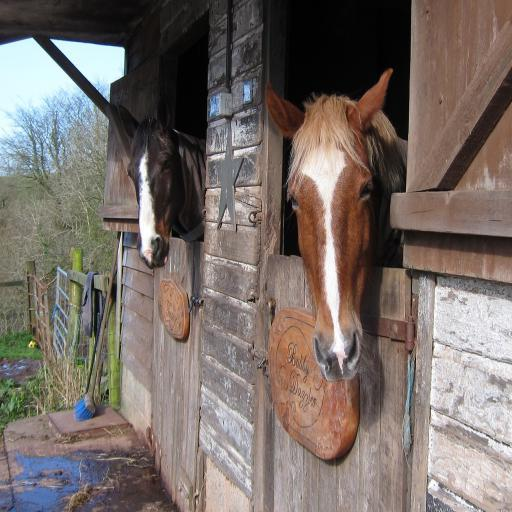horse: (264, 80, 410, 386), (116, 98, 206, 272)
